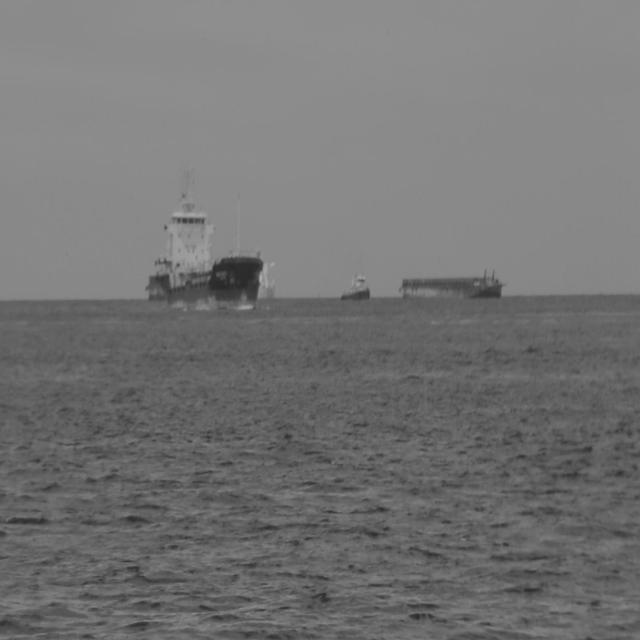ship: (146, 168, 263, 308), (399, 270, 505, 300), (257, 249, 275, 298)
